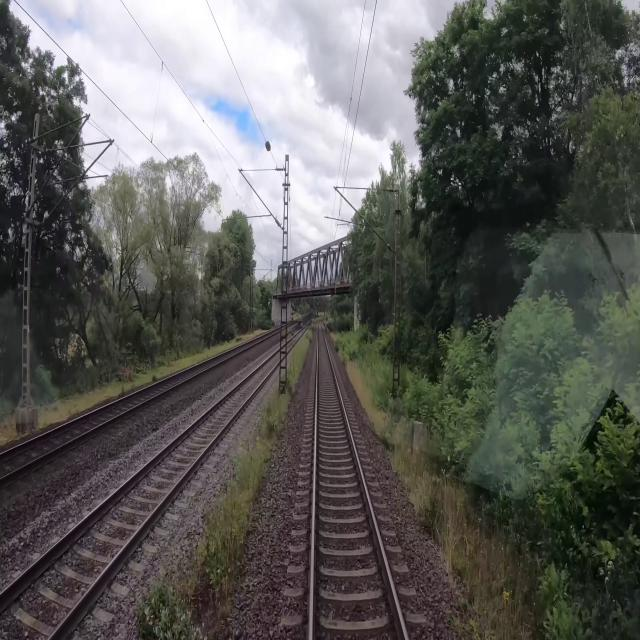Plant: (178, 330, 313, 604), (134, 578, 205, 639)
